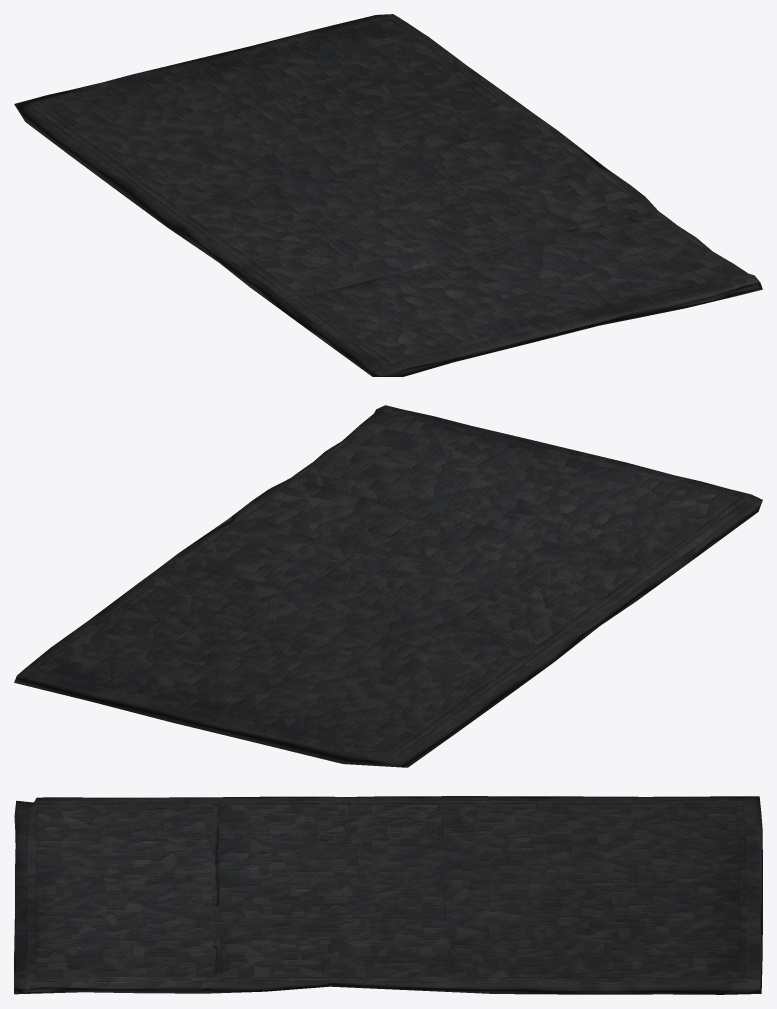
The model's file is dark+textured+rug+3d+model.glb.
The picture shows the model from 3 angles, top to bottom: view 1: azimuth 30°, elevation 25°; view 2: azimuth 150°, elevation 25°; view 3: azimuth 270°, elevation 25°; orthographic projection.
Parts seen in each view (by area): view 1: tripo_node_9a8d18b3-8992-4abc-b595-d2d160a49ce2; view 2: tripo_node_9a8d18b3-8992-4abc-b595-d2d160a49ce2; view 3: tripo_node_9a8d18b3-8992-4abc-b595-d2d160a49ce2.
Boxes of the visible parts, x1,y1,x2,y2 form: tripo_node_9a8d18b3-8992-4abc-b595-d2d160a49ce2: (14,14,762,376); tripo_node_9a8d18b3-8992-4abc-b595-d2d160a49ce2: (14,405,762,767); tripo_node_9a8d18b3-8992-4abc-b595-d2d160a49ce2: (14,796,762,994).
Bounding box in the file's own units: 0.5984 × 0.0173 × 1.
Materials: 1 (1 with a texture image).
